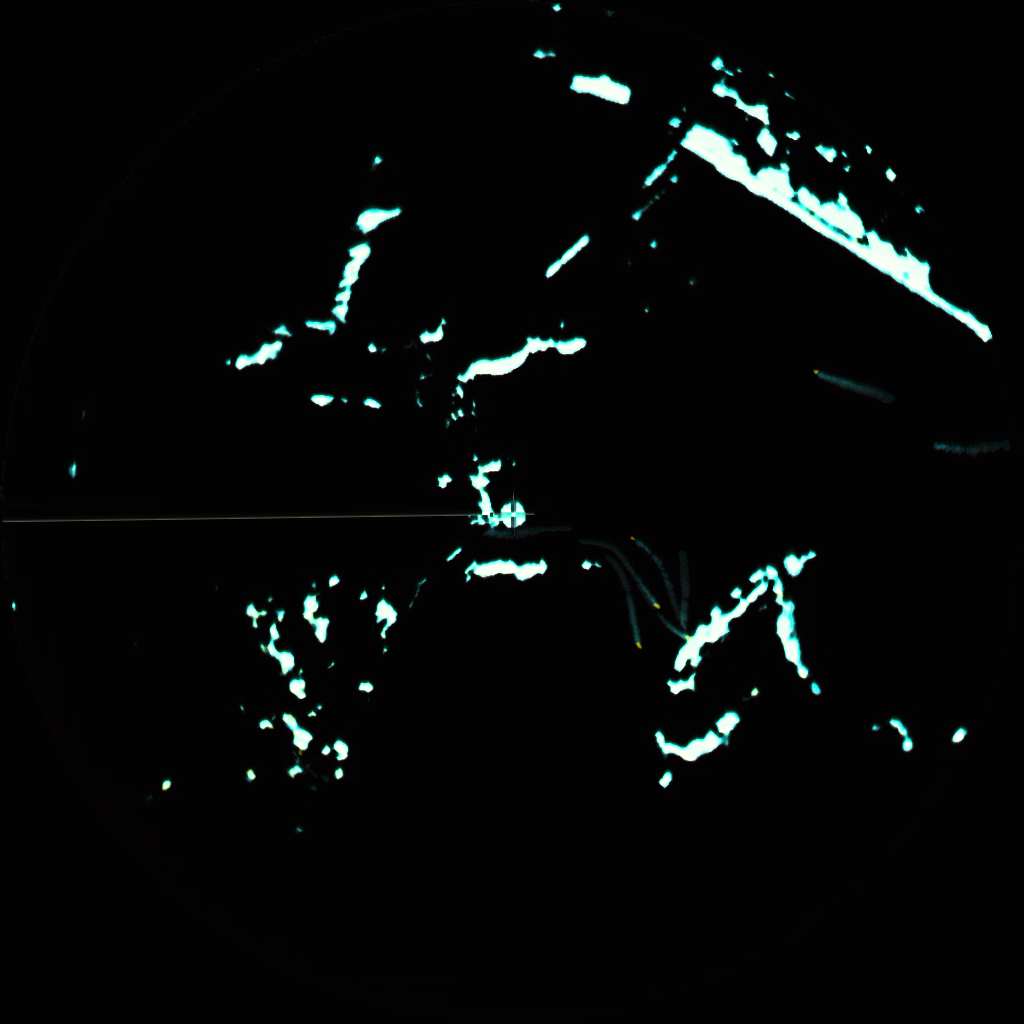B: (809, 368, 867, 393), (628, 535, 669, 568), (638, 575, 663, 608), (628, 607, 647, 650), (931, 441, 980, 456), (660, 613, 689, 638)
